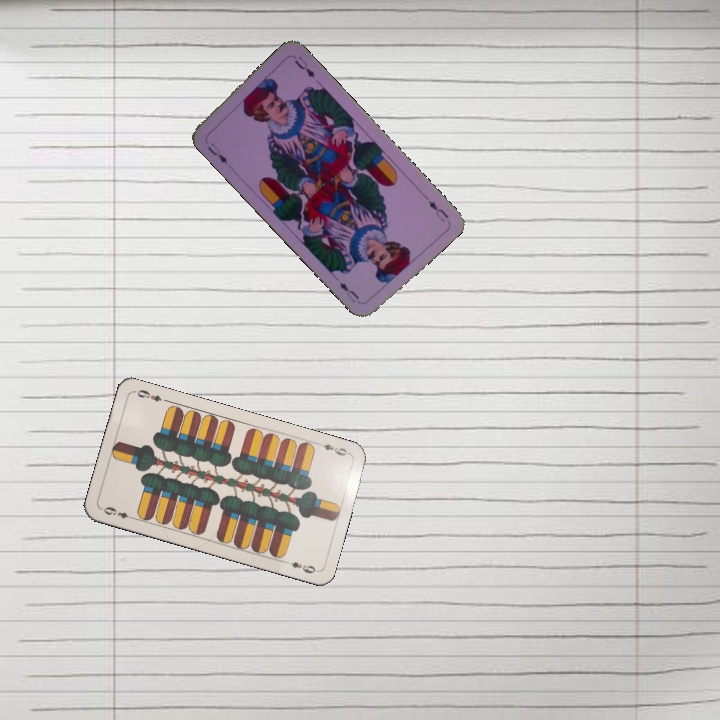E9: (313, 438, 352, 458), (100, 503, 138, 522)
EU: (424, 196, 451, 224), (203, 139, 230, 166)
